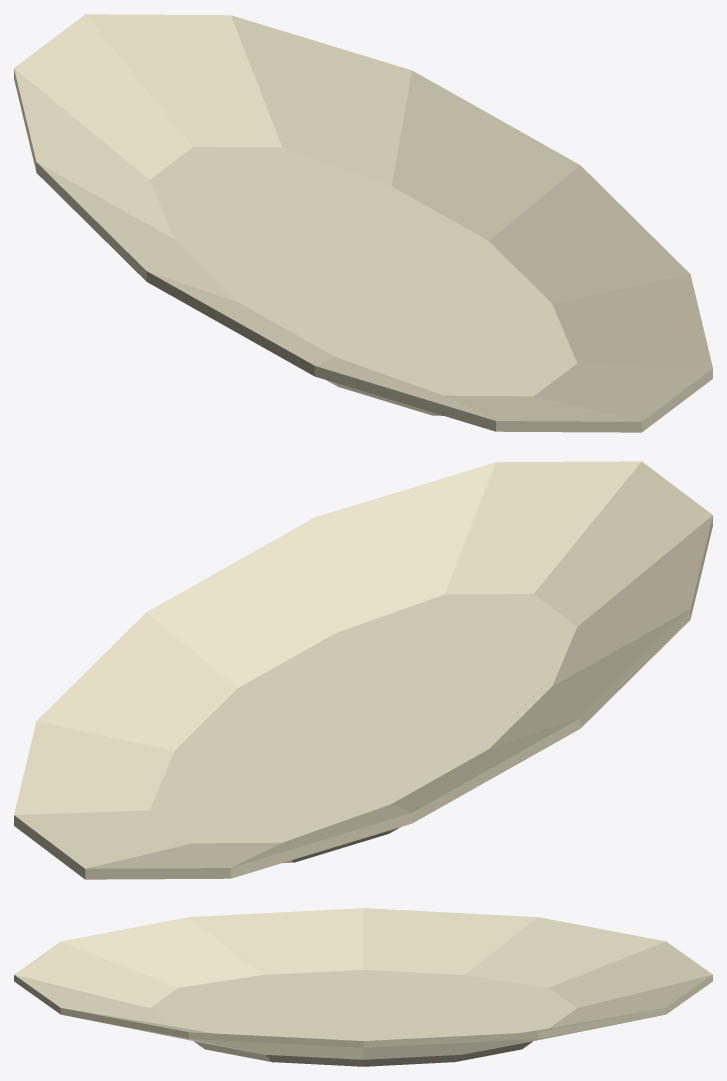
Rendered from PlateType2.fbx.
The picture shows the model from 3 angles, top to bottom: view 1: azimuth 30°, elevation 25°; view 2: azimuth 150°, elevation 25°; view 3: azimuth 270°, elevation 25°; orthographic projection. The views are drawn at different scales.
Parts seen in each view (by area): view 1: Plate; view 2: Plate; view 3: Plate.
Part boxes in pixels (x1,y1,x2,y2): Plate: [14, 14, 712, 432]; Plate: [14, 461, 712, 879]; Plate: [14, 908, 712, 1066].
Size of the model in its own units: 90.11 by 18.13 by 200.
